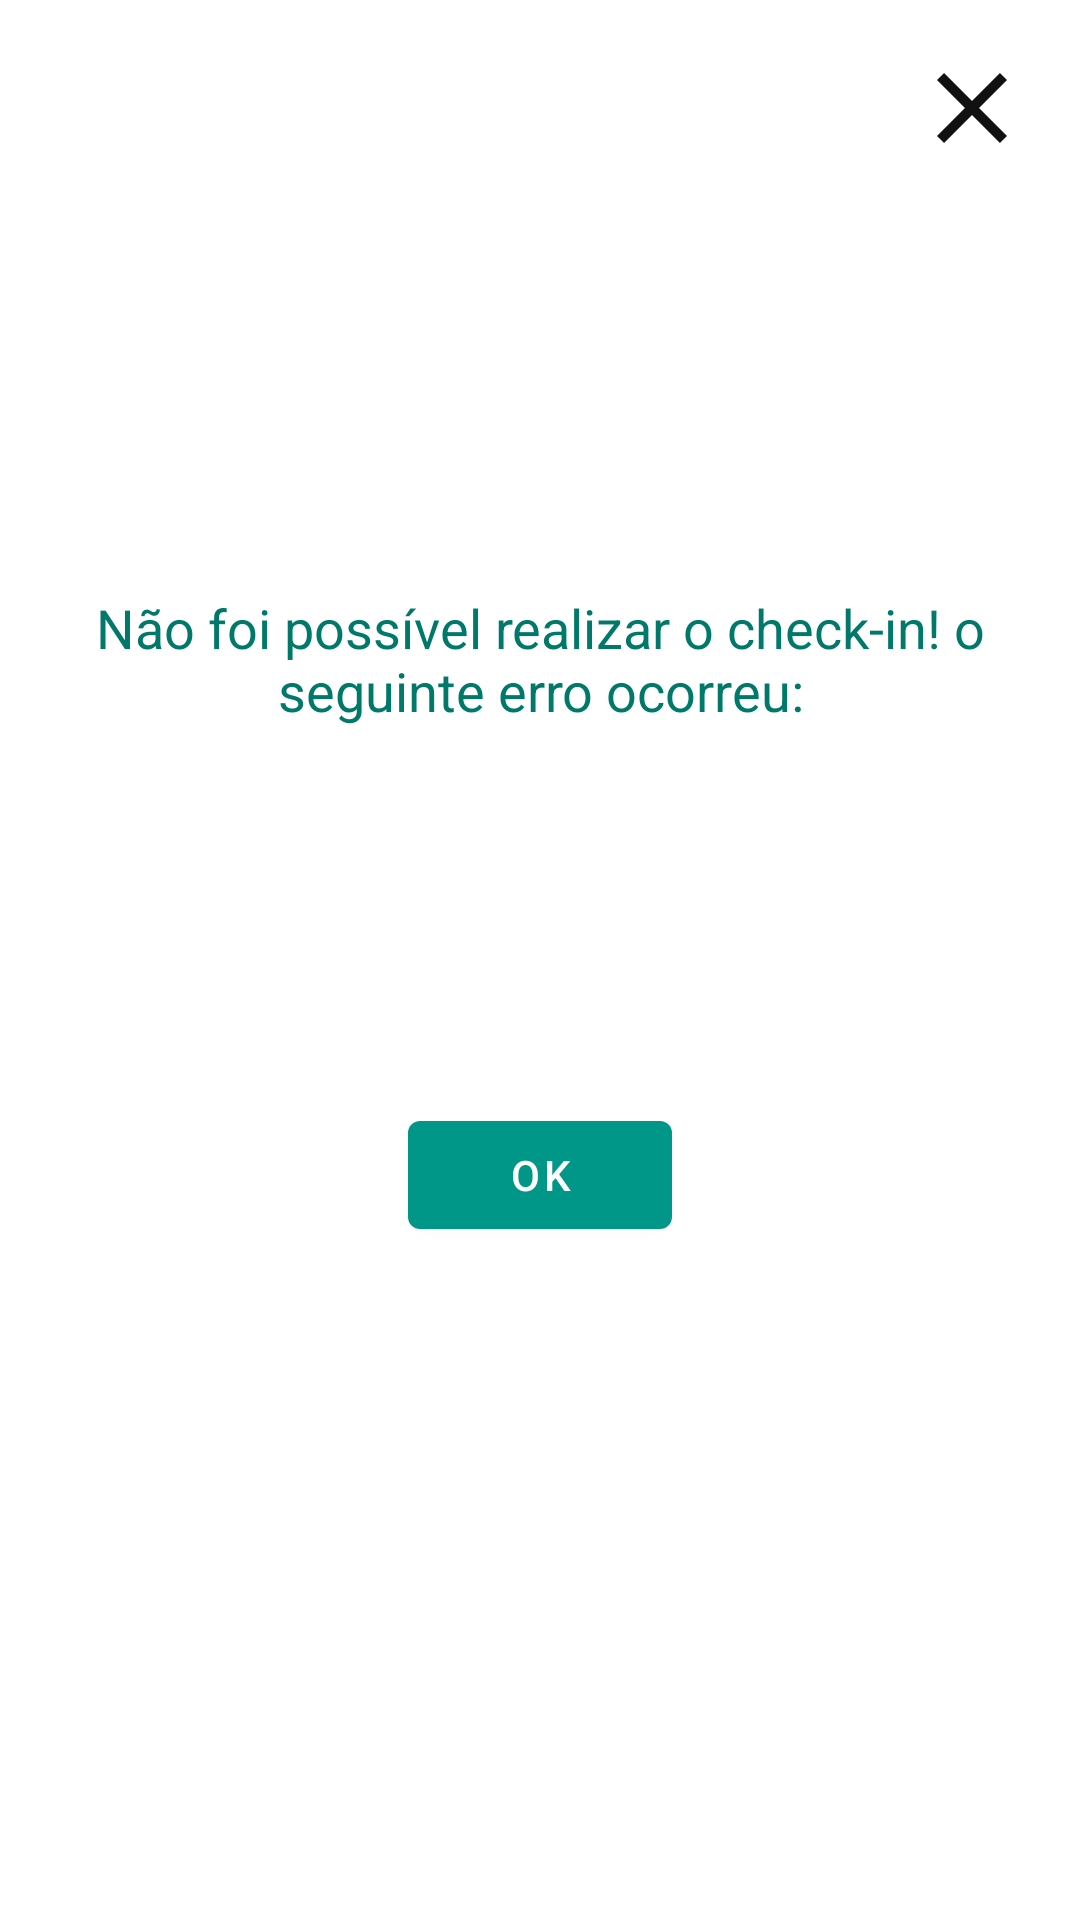

Where icons sit on this 1080 × 1920 app screen, as (x1, y1, x2, y2):
close: (937, 73, 1007, 143)
